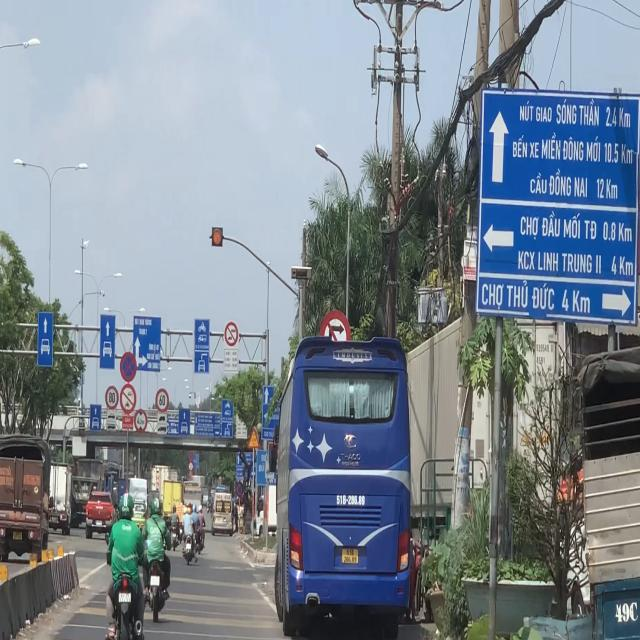Cam con lai: (120, 383, 137, 414)
Cam dung va do: (120, 352, 137, 382), (236, 482, 243, 497)
Cam re phai: (320, 310, 351, 368)
Chieu cao toi da: (134, 408, 147, 434)
Nguy hiem: (247, 428, 260, 448)
Toc do toi da: (156, 388, 170, 414), (105, 386, 119, 410)
